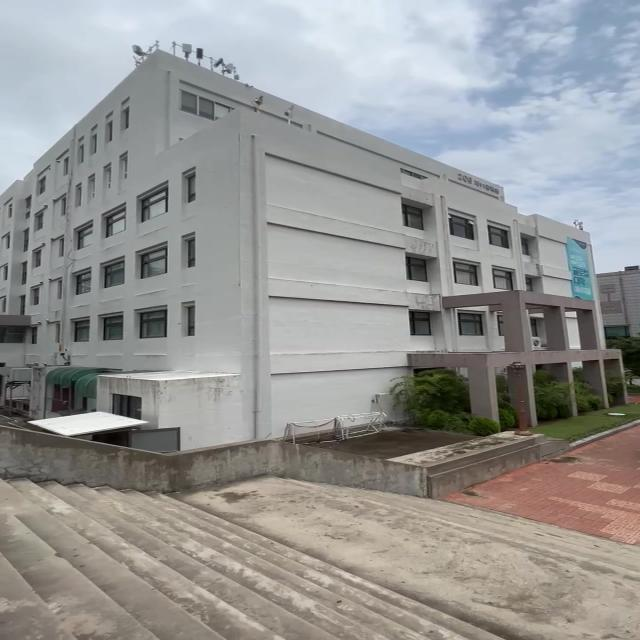building: (16, 48, 612, 408)
